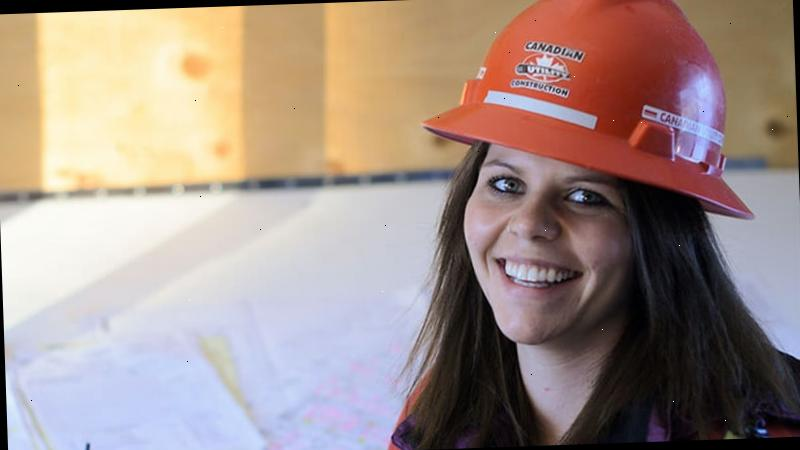helmet: (411, 0, 759, 232)
